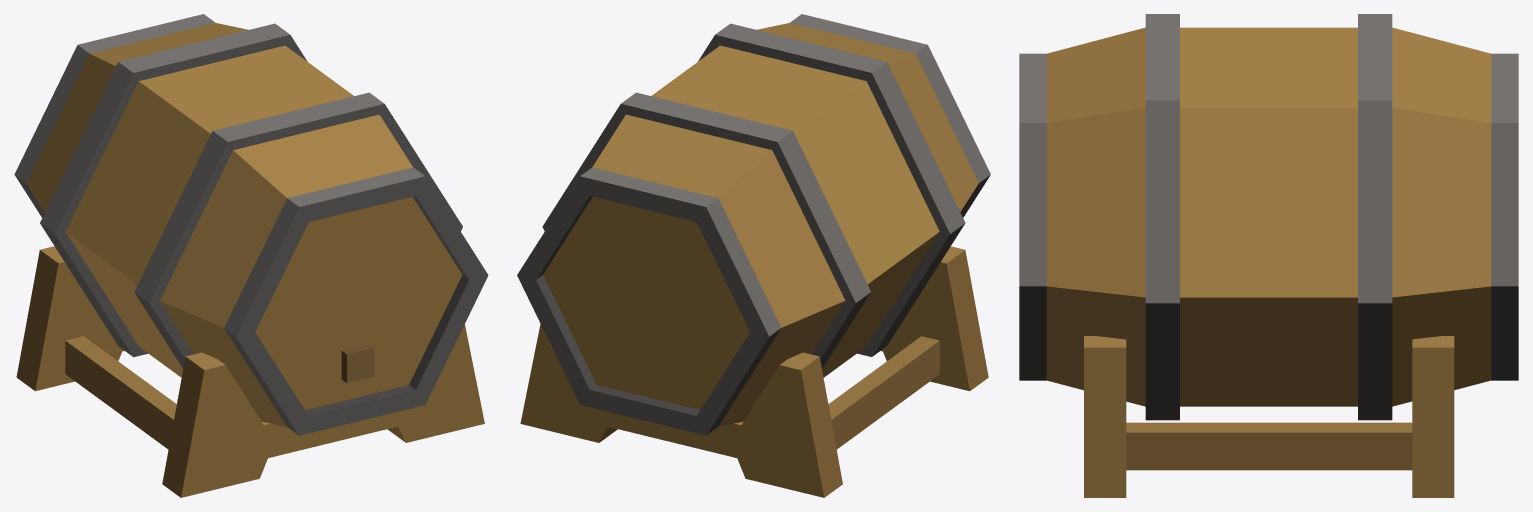
File: Barrel_Ale_02.gltf
3 renders of one model, left to right at view 1: azimuth 30°, elevation 25°; view 2: azimuth 150°, elevation 25°; view 3: azimuth 270°, elevation 25°, orthographic. The views are drawn at different scales.
Visible parts, largest first — view 1: SF_Prop_Barrel_Ale_02; view 2: SF_Prop_Barrel_Ale_02; view 3: SF_Prop_Barrel_Ale_02.
Boxes of the visible parts, box(x1,y1,x2,y2) form: SF_Prop_Barrel_Ale_02: box(14, 14, 488, 497); SF_Prop_Barrel_Ale_02: box(517, 14, 990, 497); SF_Prop_Barrel_Ale_02: box(1019, 14, 1518, 497).
Size of the model in its own units: 0.0138 by 0.0134 by 0.017.
Materials: 1 (1 with a texture image).
